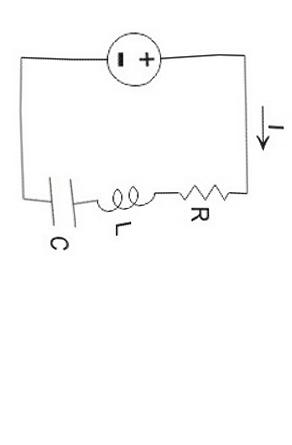Battery: (85, 15, 173, 104)
